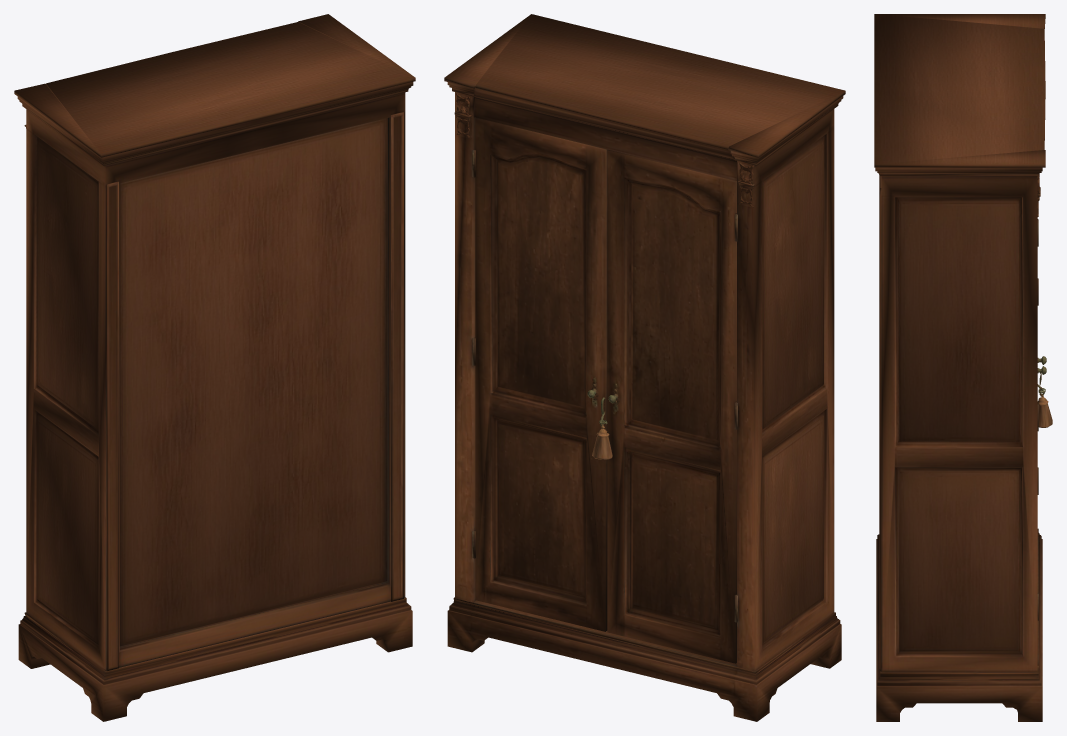
Rendered from furniture-wardrobe.glb.
3 renders of one model, left to right at view 1: azimuth 30°, elevation 25°; view 2: azimuth 150°, elevation 25°; view 3: azimuth 270°, elevation 25°, orthographic.
Visible parts, largest first — view 1: tripo_node_eed055c0-b67a-4037-92e0-e533d21e3b75; view 2: tripo_node_eed055c0-b67a-4037-92e0-e533d21e3b75; view 3: tripo_node_eed055c0-b67a-4037-92e0-e533d21e3b75.
Part boxes in pixels (bbox=[...]): tripo_node_eed055c0-b67a-4037-92e0-e533d21e3b75: bbox=[14, 14, 415, 721]; tripo_node_eed055c0-b67a-4037-92e0-e533d21e3b75: bbox=[444, 14, 845, 721]; tripo_node_eed055c0-b67a-4037-92e0-e533d21e3b75: bbox=[874, 14, 1052, 721].
Bounding box in the file's own units: 1.3 × 2.25 × 0.65.
1 material, 1 textured.
